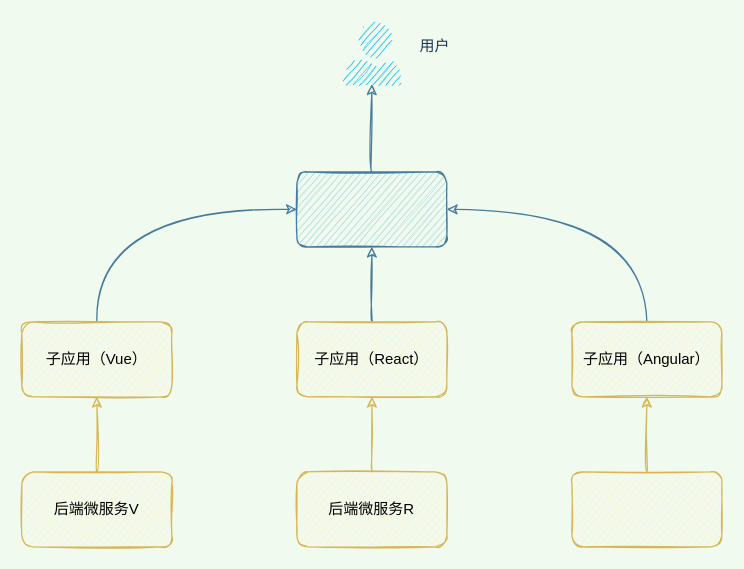
The diagram is 744 pixels wide and 569 high, and some of its shapes have lost their labels. Here are the shapes that lost their labels. From the top down, the centre of each, then its label:
At [371,209]: "主应用（缝合层）".
At [646,509]: "后端微服务A".
